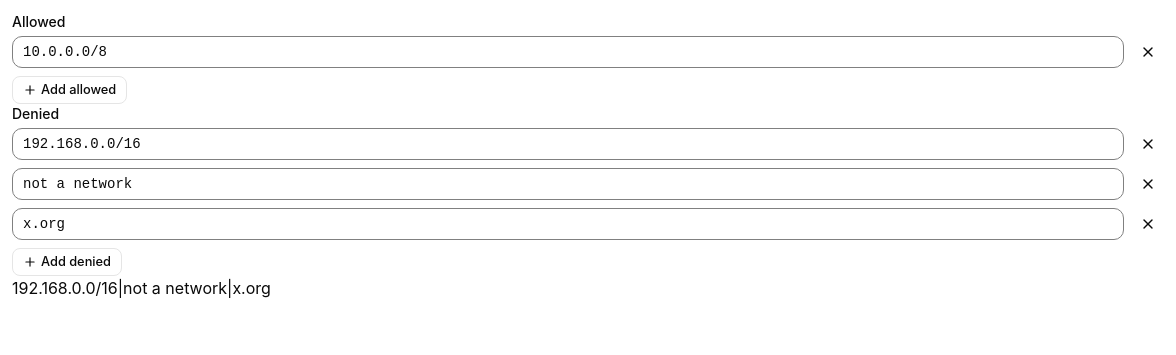
network list editor › adds an entry with the focus on it and removes one
This screenshot has width=1176, height=355.
Click the button "Add denied": click(67, 262) [12,248,122,276]
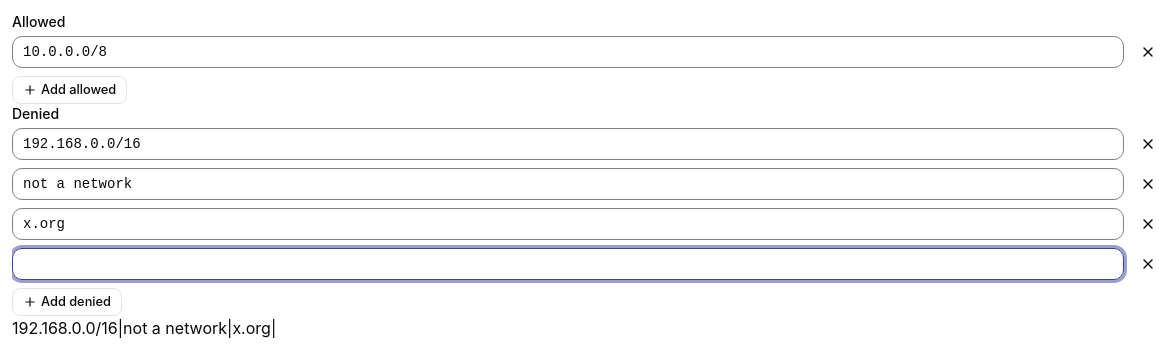
In the field named "Denied, entry 4": (568, 264) [12,248,1124,280], type "10.20.0.0/16"
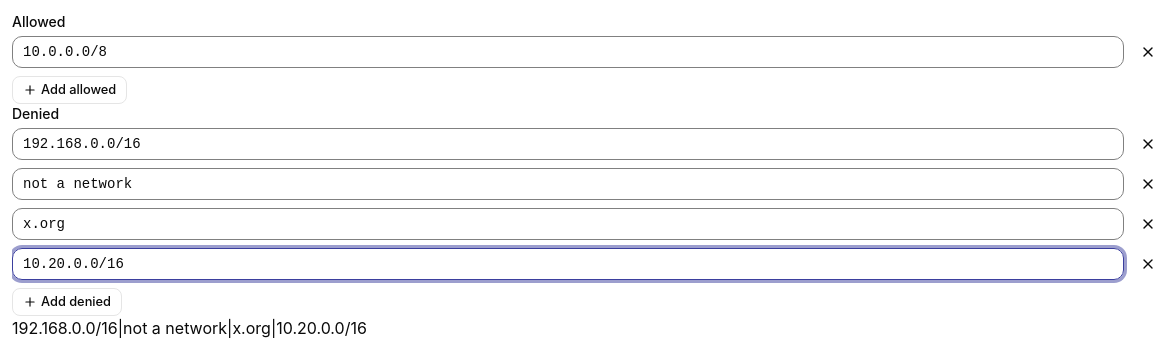
Expected: the text with test id "denied" reads "192.168.0.0/16|not a network|x.org|10.20.0.0/16", [12,318,367,338]
Click the button named "Remove Denied, entry 2": click(1148, 184) [1132,168,1164,200]
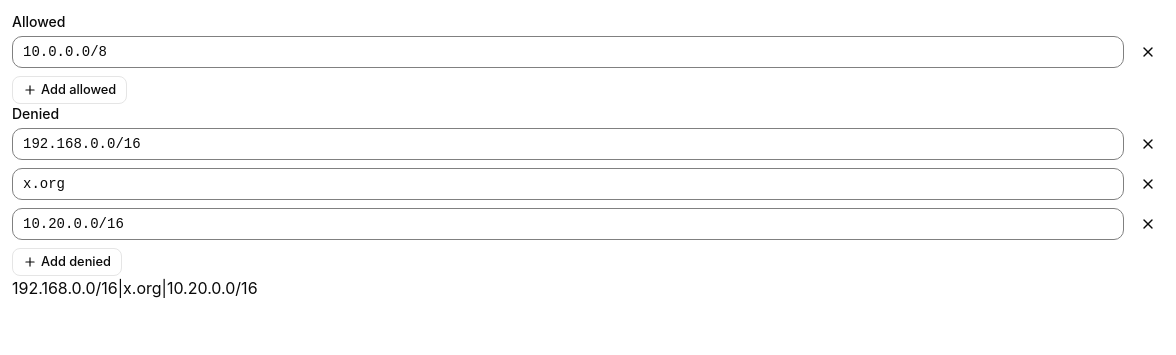
Expected: the text with test id "denied" reads "192.168.0.0/16|x.org|10.20.0.0/16", [12,278,258,298]
